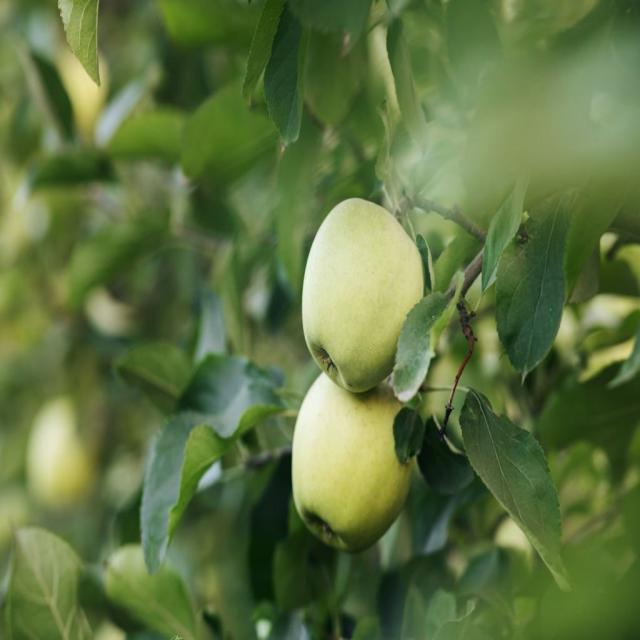Green Apple: (307, 194, 434, 385), (296, 358, 418, 541)
